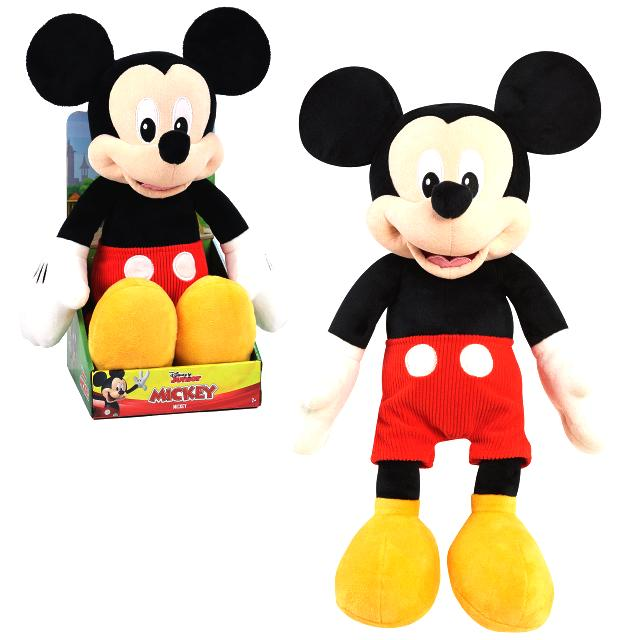mickey: (287, 52, 614, 631), (20, 8, 289, 369), (93, 370, 149, 416)
